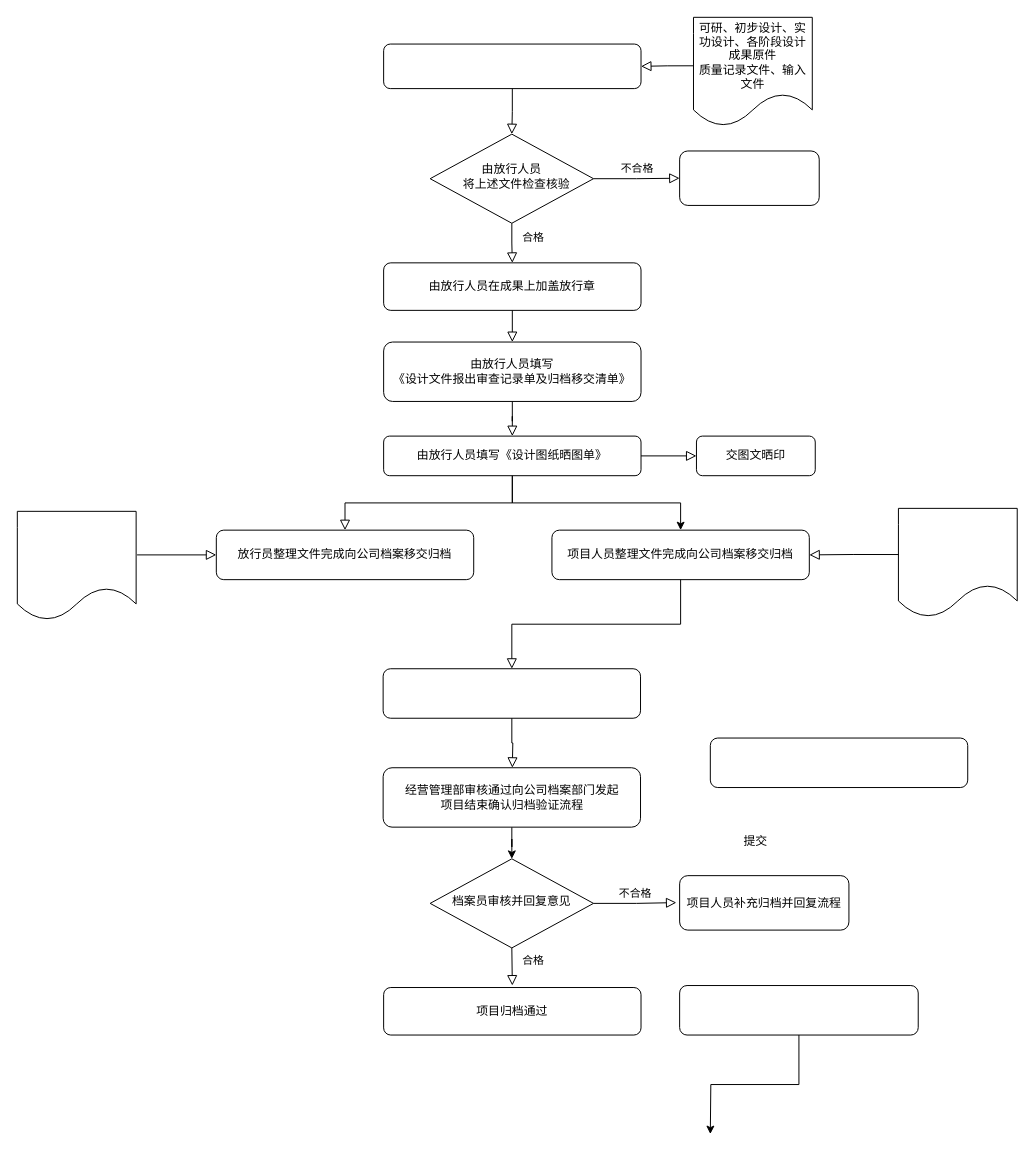
Some shapes in this 1035 by 1159 pixel diagram are drawn without their labels. The shapes that lost their labels are listed below. From the top down, each one's box as (x1, y1, x2, y2) in pixels, then its label:
(383, 43, 641, 89): 在专业院技术质量办公室报出审查
(679, 150, 819, 205): 由相关设计人修改完善，并由各级确认
(16, 510, 136, 620): 设计成果原件质量记录文件、输入文件、强审蓝图（如有）
(897, 507, 1017, 617): 项目人员将交底记录、往来文件、竣工验收等重要文件
(382, 668, 641, 718): 项目人员提交项目结束归档确认
(679, 985, 918, 1035): 缺失重要文件无法完成归档执行行政审批
